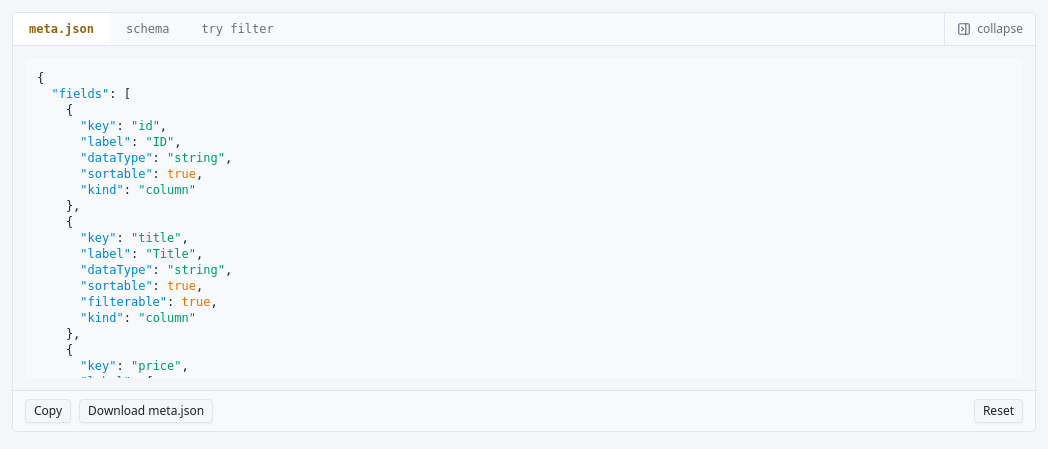
Scenario: CodePanel tabs › defaults to the meta tab with the full normalized json; schema and try tabs swap content
Expected: the element with test id "meta-json" shows "\"fields\"", 52,87 -> 109,101
Click the button "schema". click: (148, 29)
box: 110,13 -> 185,45
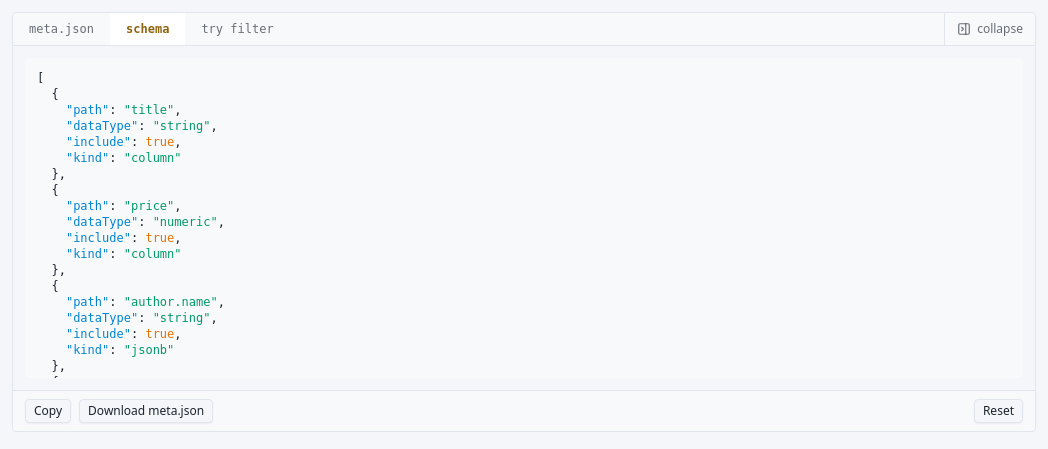
Expected: the element with test id "schema-json" does not show "\"createdAt\""
Now the element with test id "meta-json" is gone
Now the element with test id "schema-json" shows "\"author.name\"", box 124,295 -> 218,309
Click the button "try filter". click: (238, 29)
box: 185,13 -> 290,45
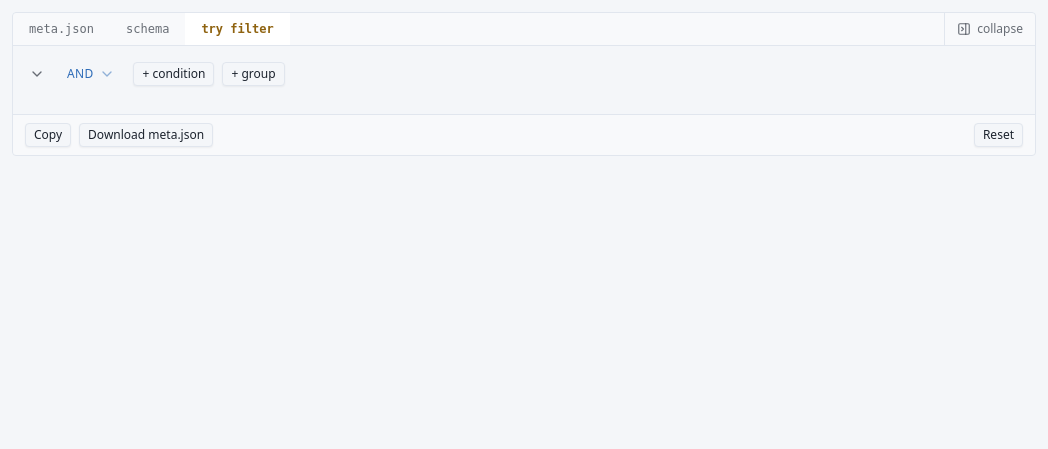
Now the button "+ condition" is shown, box 134,62 -> 214,86
